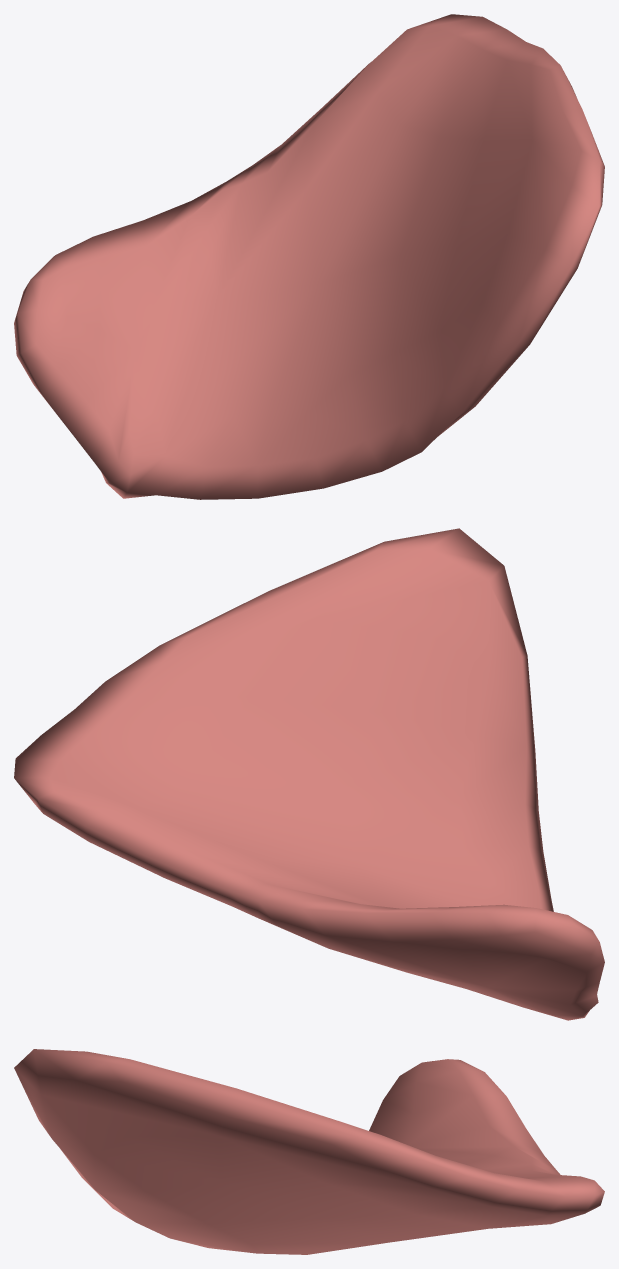
3 renders of one model, top to bottom at view 1: azimuth 30°, elevation 25°; view 2: azimuth 150°, elevation 25°; view 3: azimuth 270°, elevation 25°, orthographic. The views are drawn at different scales.
Visible parts, largest first — view 1: ZA_0a670ffff7358756; view 2: ZA_0a670ffff7358756; view 3: ZA_0a670ffff7358756.
Part boxes in pixels (bbox=[...]): ZA_0a670ffff7358756: bbox=[14, 14, 604, 499]; ZA_0a670ffff7358756: bbox=[14, 528, 604, 1020]; ZA_0a670ffff7358756: bbox=[14, 1049, 604, 1254].
Size of the model in its own units: 0.00534 by 0.00321 by 0.00563.
